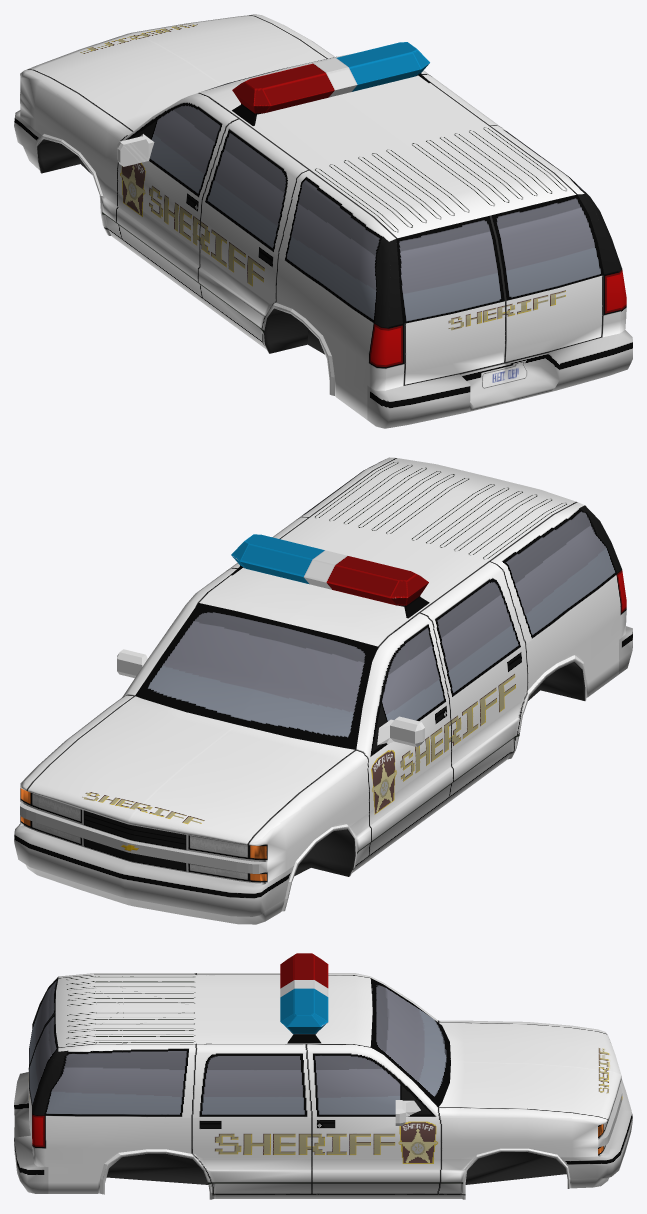
The model's file is 93tahoepolice.fbx.
3 views of the same model, one above another, from view 1: azimuth 30°, elevation 25°; view 2: azimuth 150°, elevation 25°; view 3: azimuth 270°, elevation 25° (orthographic). The views are drawn at different scales.
Parts seen in each view (by area): view 1: 93tahoe; view 2: 93tahoe; view 3: 93tahoe.
Boxes of the visible parts, bbox=[...] form: 93tahoe: bbox=[14, 14, 632, 428]; 93tahoe: bbox=[14, 457, 632, 924]; 93tahoe: bbox=[14, 953, 632, 1199].
Bounding box in the file's own units: 2.32 × 1.56 × 5.19.
